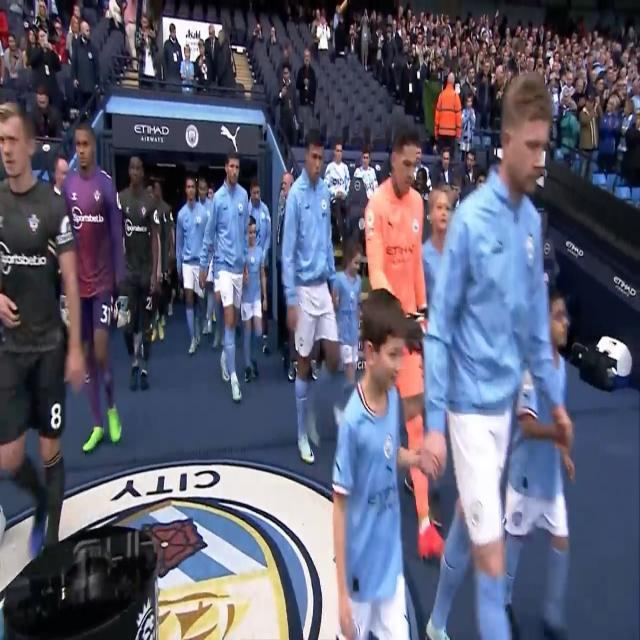Etihad Airways: (134, 122, 169, 143), (614, 274, 636, 298), (566, 239, 584, 260)
